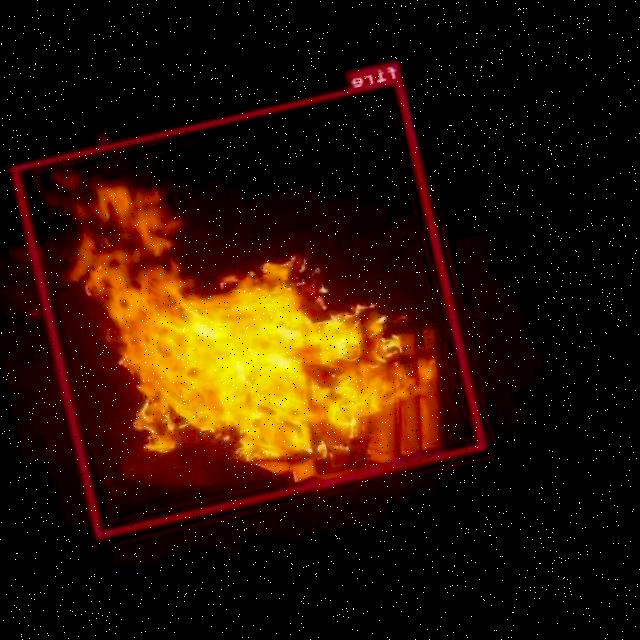fire: (12, 76, 487, 536)
